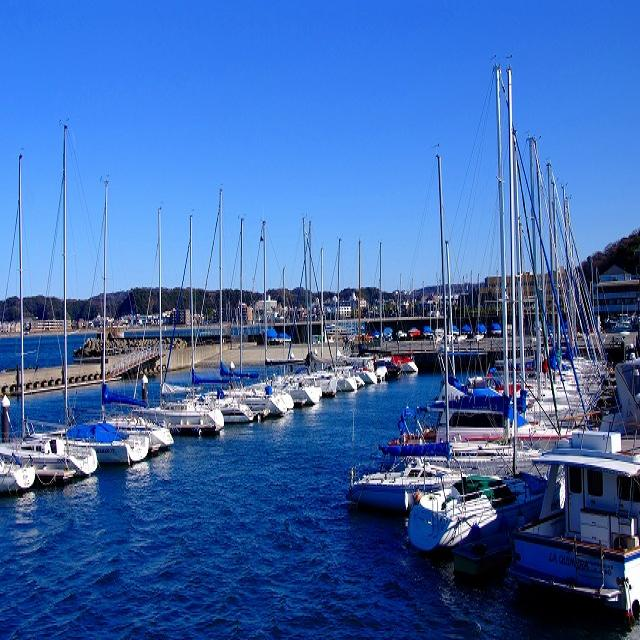fishing boat: (409, 470, 522, 550), (350, 445, 439, 523), (61, 416, 151, 472), (6, 438, 94, 488), (160, 398, 229, 439), (234, 371, 291, 418), (201, 399, 268, 426)
